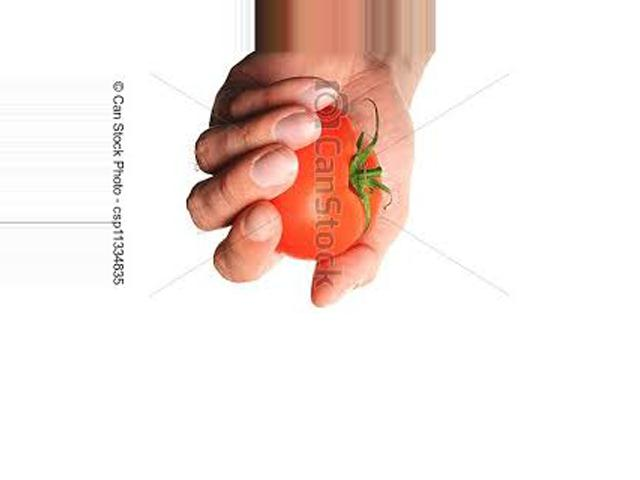tomato: (272, 107, 378, 260)
